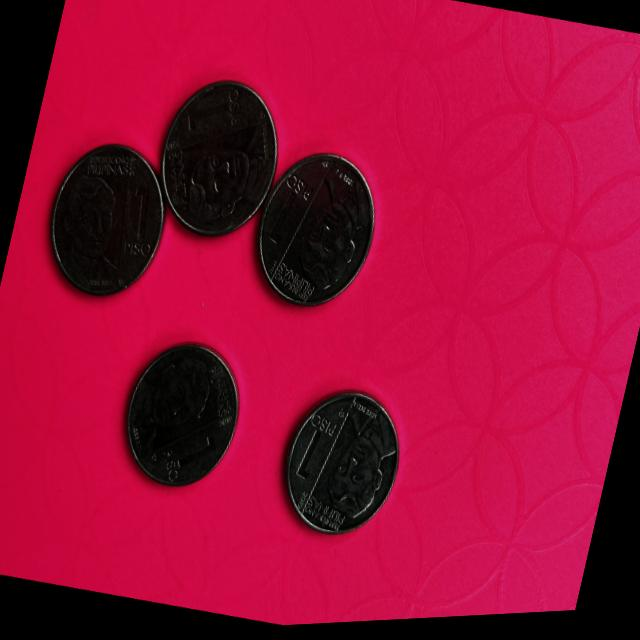1_New_Front: (258, 164, 322, 254), (152, 421, 224, 492), (284, 408, 342, 492), (109, 185, 164, 272), (178, 77, 250, 143)
